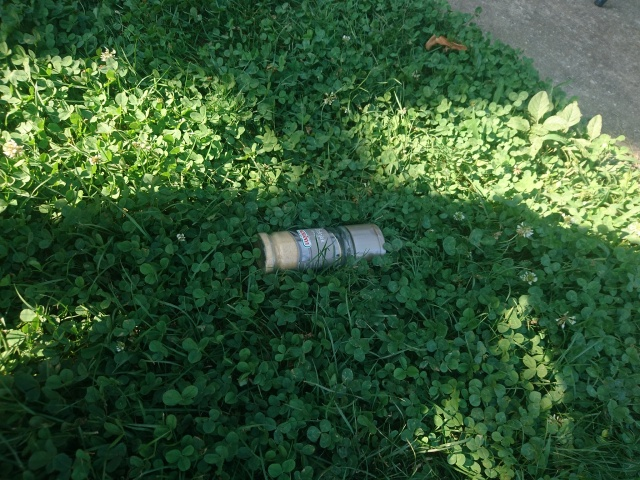Kotanyi Garlic Granules 70g: (249, 220, 389, 276)
